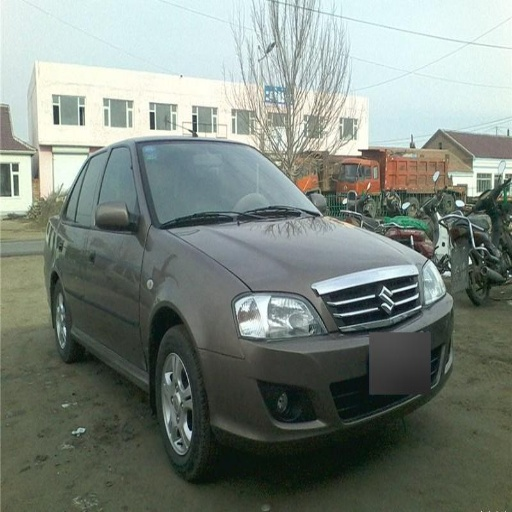front_bumper: (200, 276, 452, 443)
front_right_door: (87, 144, 145, 363)
front_right_light: (233, 290, 326, 342)
